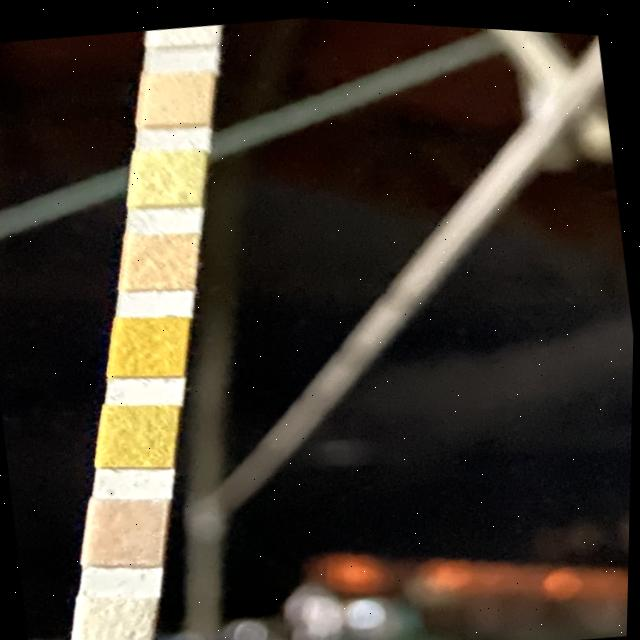Bilirubin: (80, 594, 154, 640)
Blood: (117, 315, 184, 376)
Ketone: (91, 497, 164, 565)
Nitrite: (153, 19, 216, 44)
Protein: (134, 146, 204, 205)
SpGravity: (101, 403, 173, 466)
Urobilinogen: (139, 71, 207, 125)
pH: (122, 230, 195, 290)
